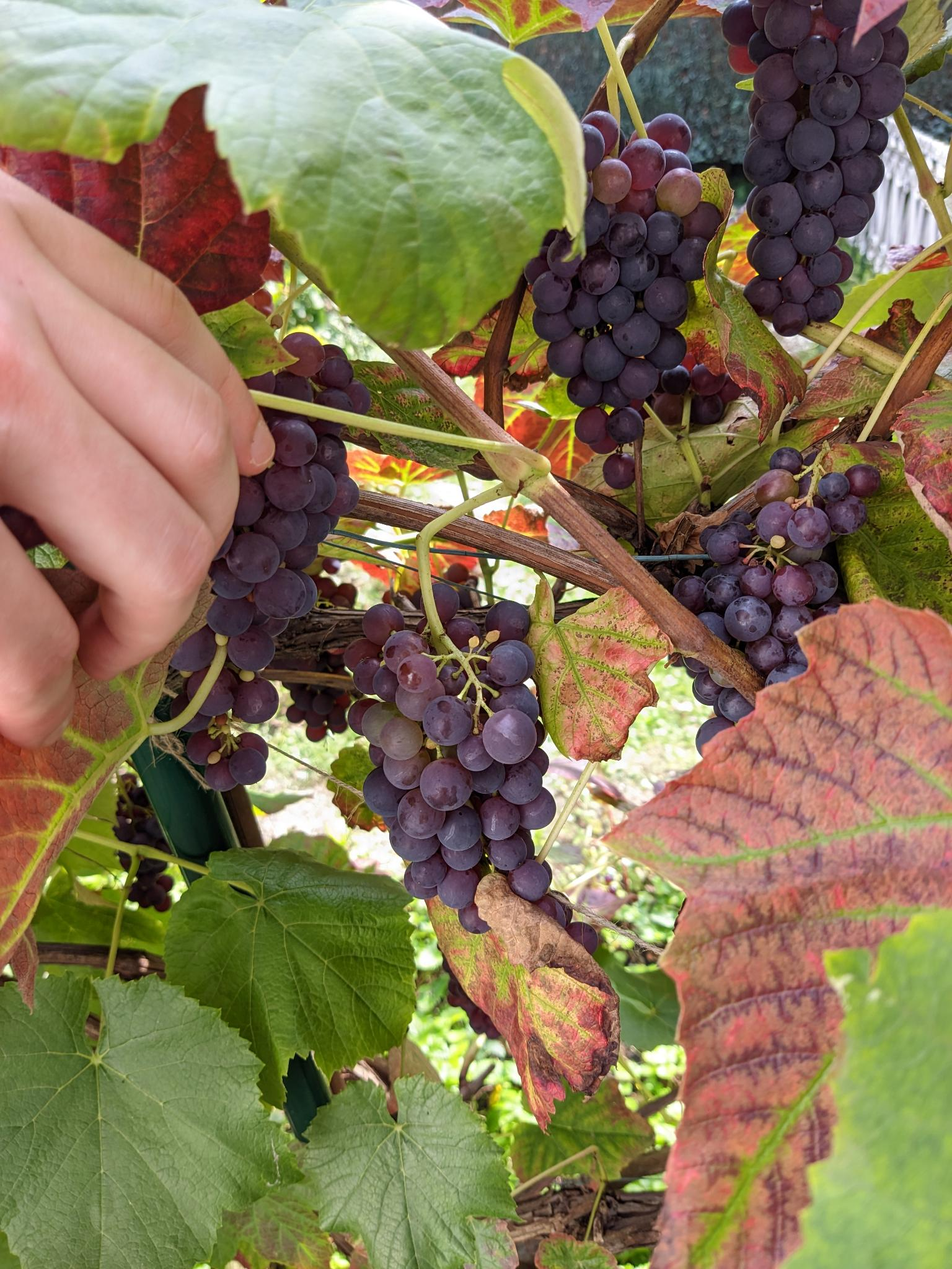Grape Ripe: (160, 332, 358, 789), (533, 115, 738, 485), (362, 602, 572, 933), (666, 445, 878, 755), (723, 0, 908, 336), (114, 774, 177, 913)
